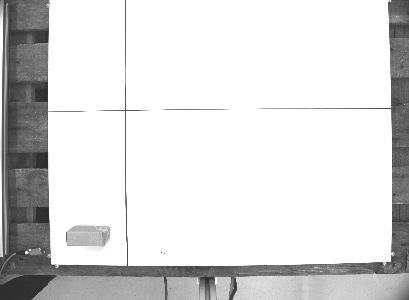b1: (64, 223, 112, 249)
